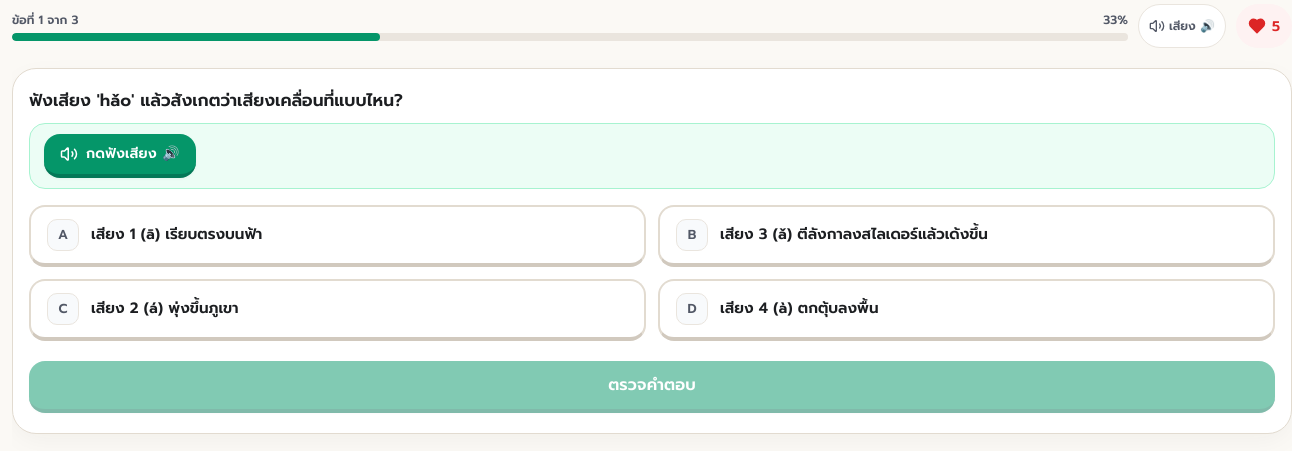
Scenario: QuizContainer Component (Phase 2 Slice 2.5) › Adaptive Silent Mode › toggles silent mode on and off via top switch
The width and height of the screenshot is (1292, 451).
Step 1. Click the button with aria-label "เปิดโหมดเงียบ" → (1182, 26), box [1138, 4, 1226, 48]
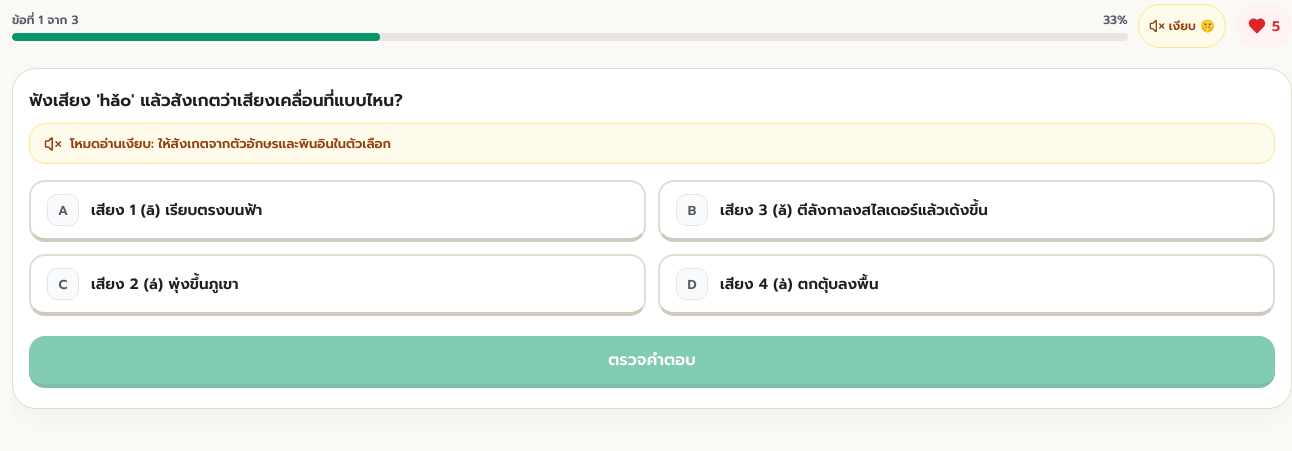
Expected: the text "เงียบ 🤫" is shown, [1169, 17, 1215, 35]
Expected: the text "โหมดอ่านเงียบ" is shown, [70, 134, 391, 153]
